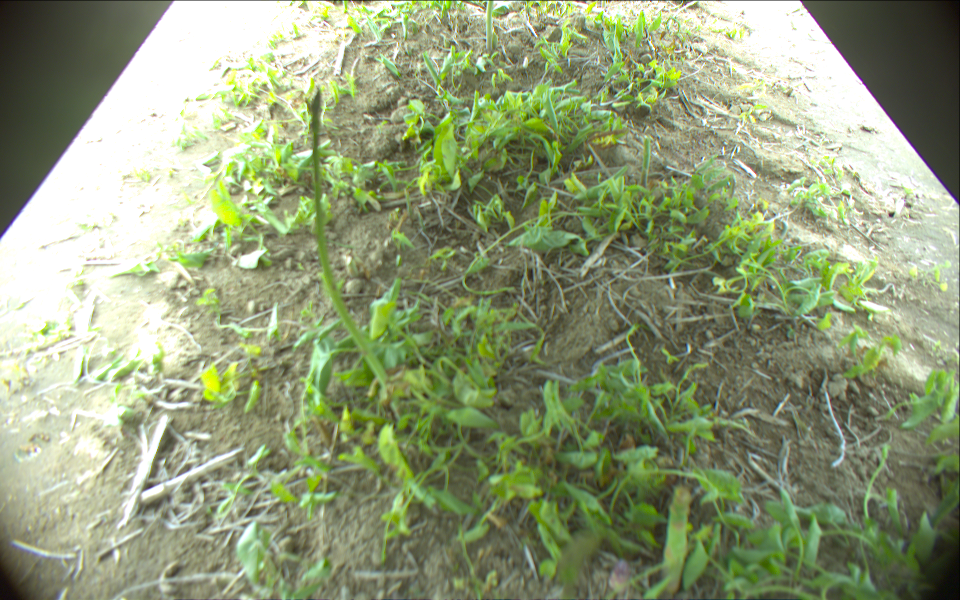aspa: (308, 86, 392, 389), (659, 485, 692, 599), (640, 135, 652, 189), (485, 1, 495, 49)
